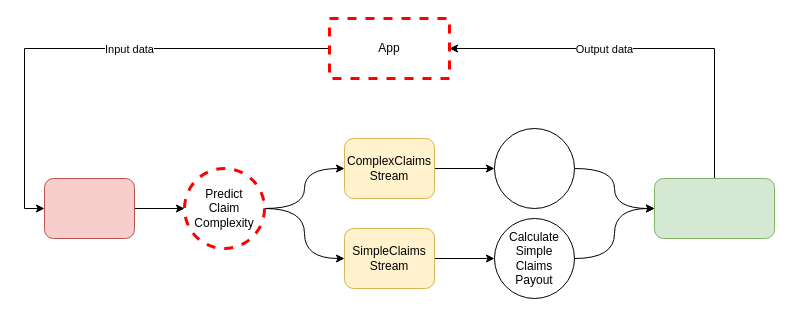
Some shapes in this 792 by 316 pixel diagram are drawn without their labels. Here are the shapes that lost their labels. From the top down, the box of each, then its label:
(494, 128, 574, 208): Calculate Complex Claims Payout
(44, 178, 134, 238): NewClaims Stream
(654, 178, 774, 238): ClaimPayout Stream
